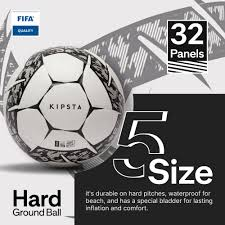football ball: (3, 46, 125, 171)
